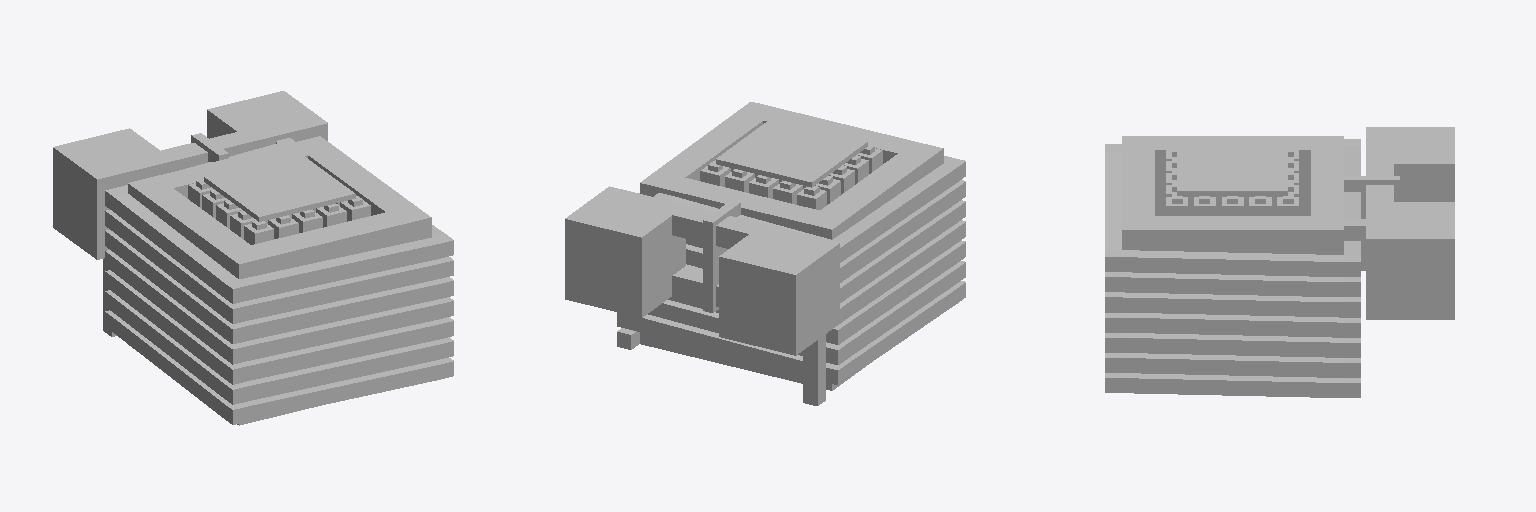
The model's file is nuclear_boiler.obj.
The picture shows the model from 3 angles: view 1: azimuth 30°, elevation 25°; view 2: azimuth 150°, elevation 25°; view 3: azimuth 270°, elevation 25°; orthographic projection.
Parts seen in each view (by area): view 1: cube; view 2: cube; view 3: cube.
Boxes of the visible parts, x1,y1,x2,y2 form: cube: [53, 91, 453, 425]; cube: [565, 102, 965, 405]; cube: [1105, 127, 1454, 397].
Size of the model in its own units: 3 by 2.19 by 3.94.